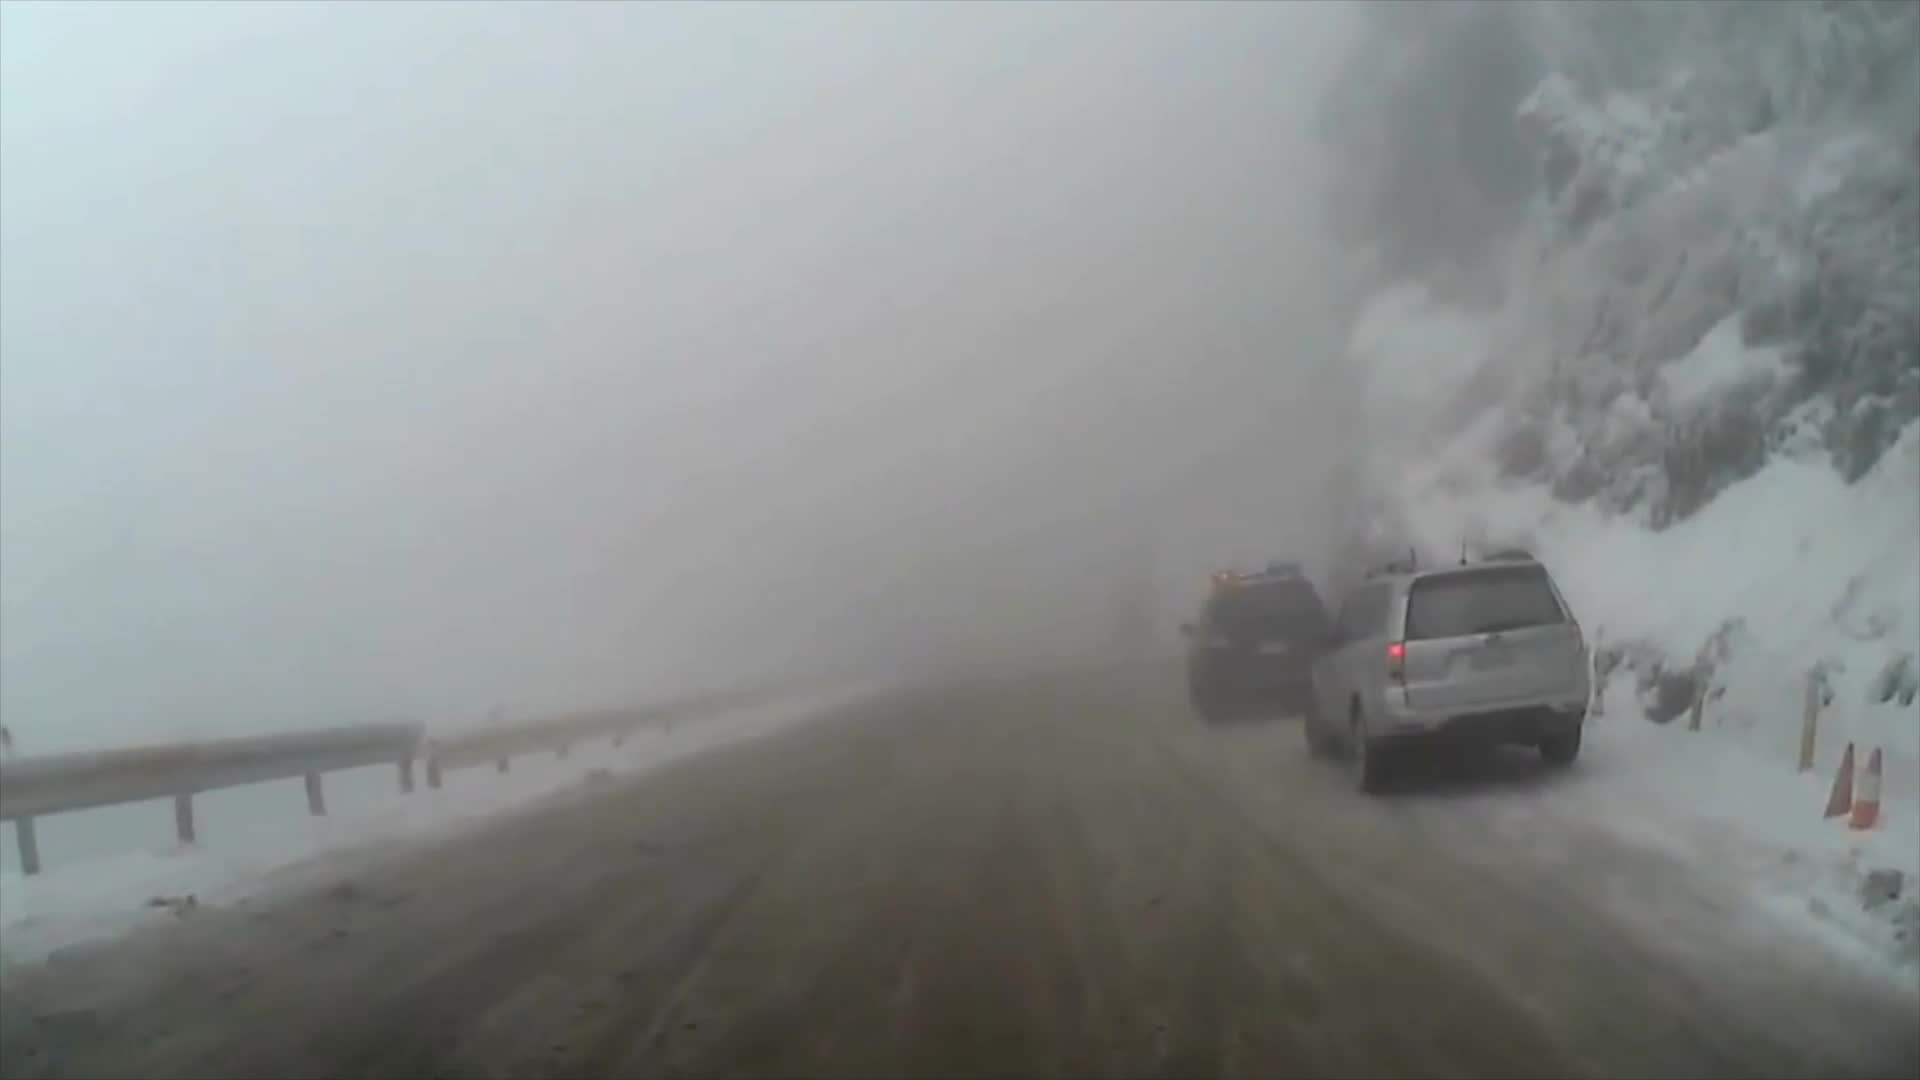vehicle: (1299, 545, 1592, 796), (1178, 556, 1340, 723)
